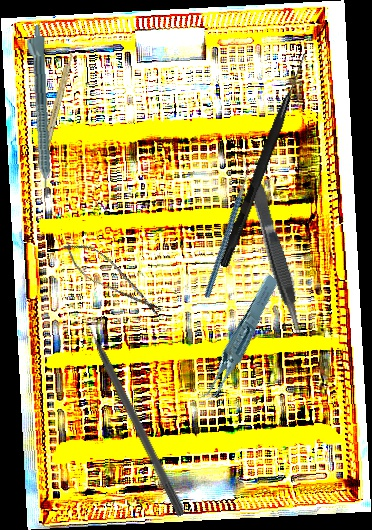Chopper: (162, 157, 290, 300)
Handpiece: (23, 25, 54, 199)
Hook Surgical: (219, 50, 309, 270)
Micro Scissor: (54, 231, 171, 325)
Pusher: (78, 308, 188, 518)
Scalpel Handle: (37, 50, 76, 165)
Tissue Forceps: (174, 272, 301, 406), (246, 174, 309, 341)
